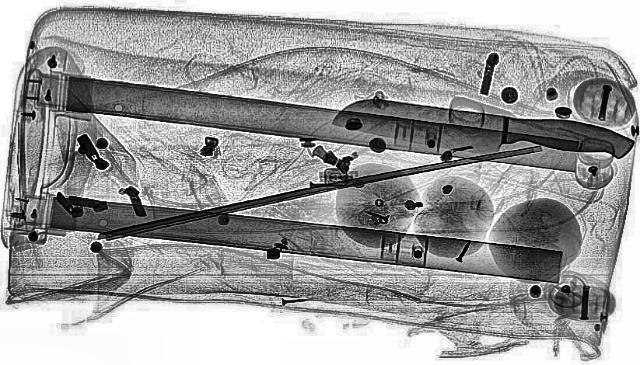Knife: (326, 92, 638, 170)
